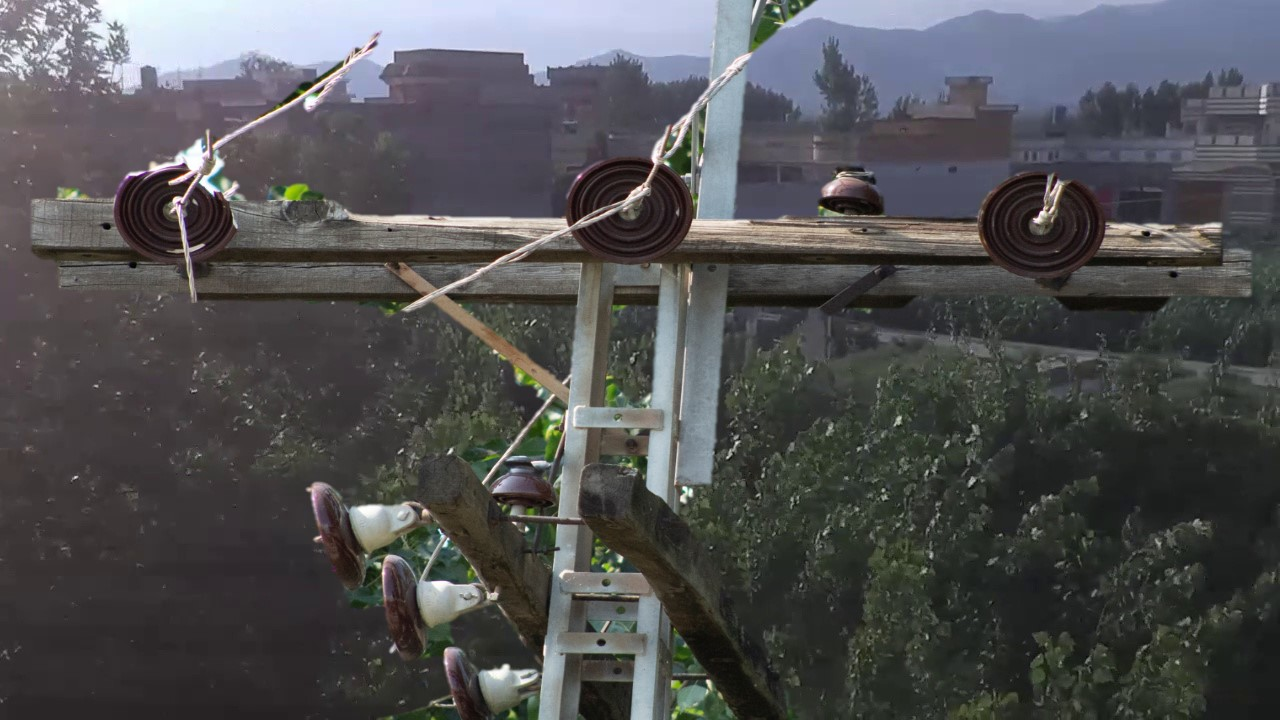defect_disc: (109, 156, 243, 270)
insulator_disc: (973, 162, 1108, 289), (561, 153, 702, 273), (304, 470, 380, 598), (431, 635, 534, 715), (373, 550, 438, 666)
insulator_pin: (482, 448, 559, 514), (818, 156, 888, 218)
